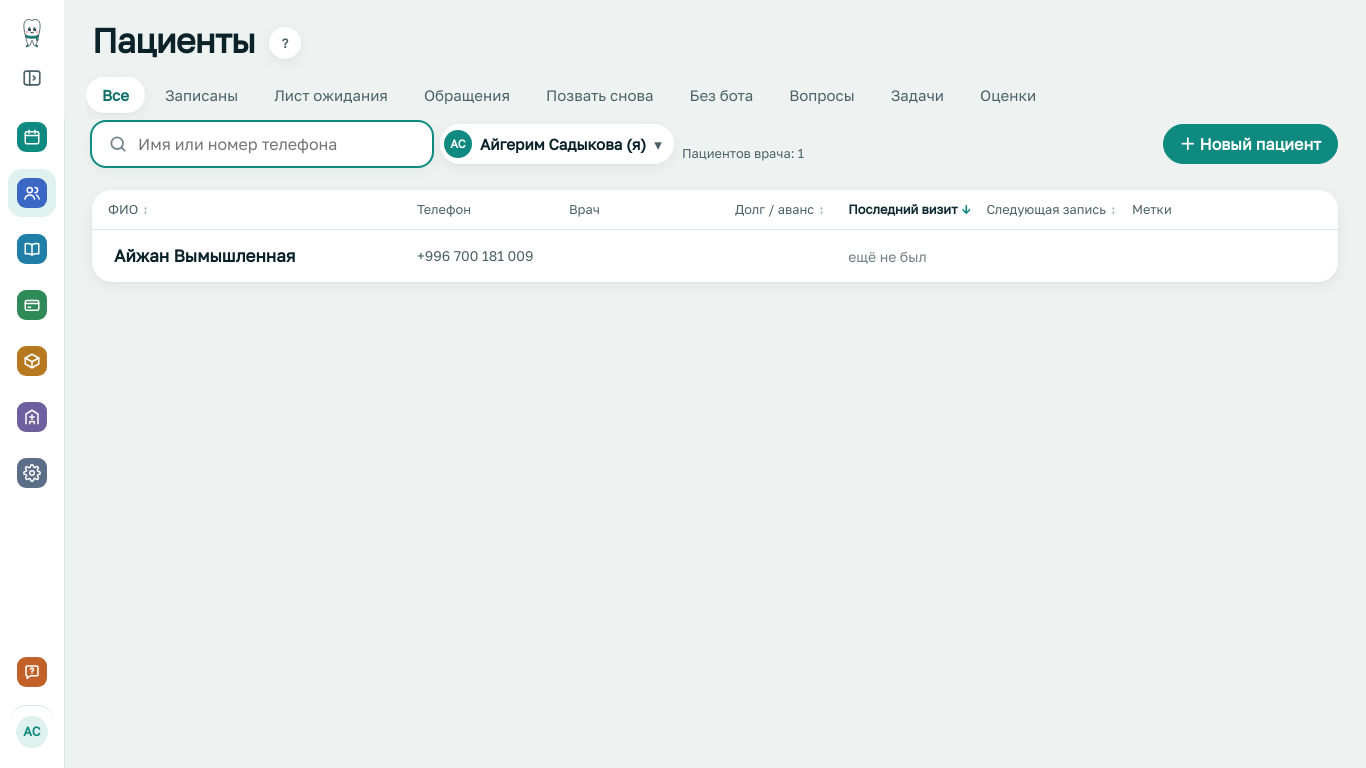
Test: свёрнут в одну строку: «📄 Договор: не подписан», нажали — кнопки, ещё раз — снова строка
Click the button "Айжан Вымышленная" at (205, 256), box [114, 243, 296, 269]
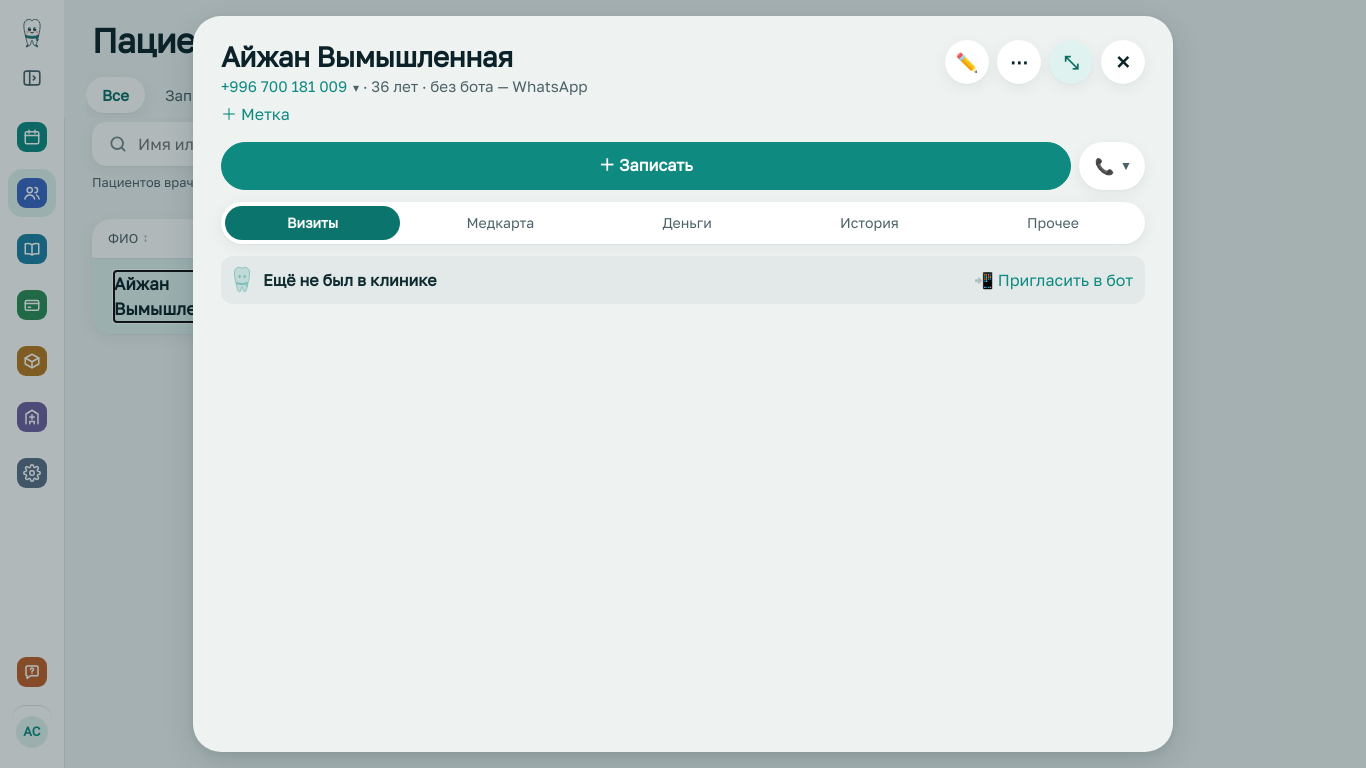
Click the tab "Прочее" at (1053, 223), box [965, 206, 1141, 240]
(page scrolled)
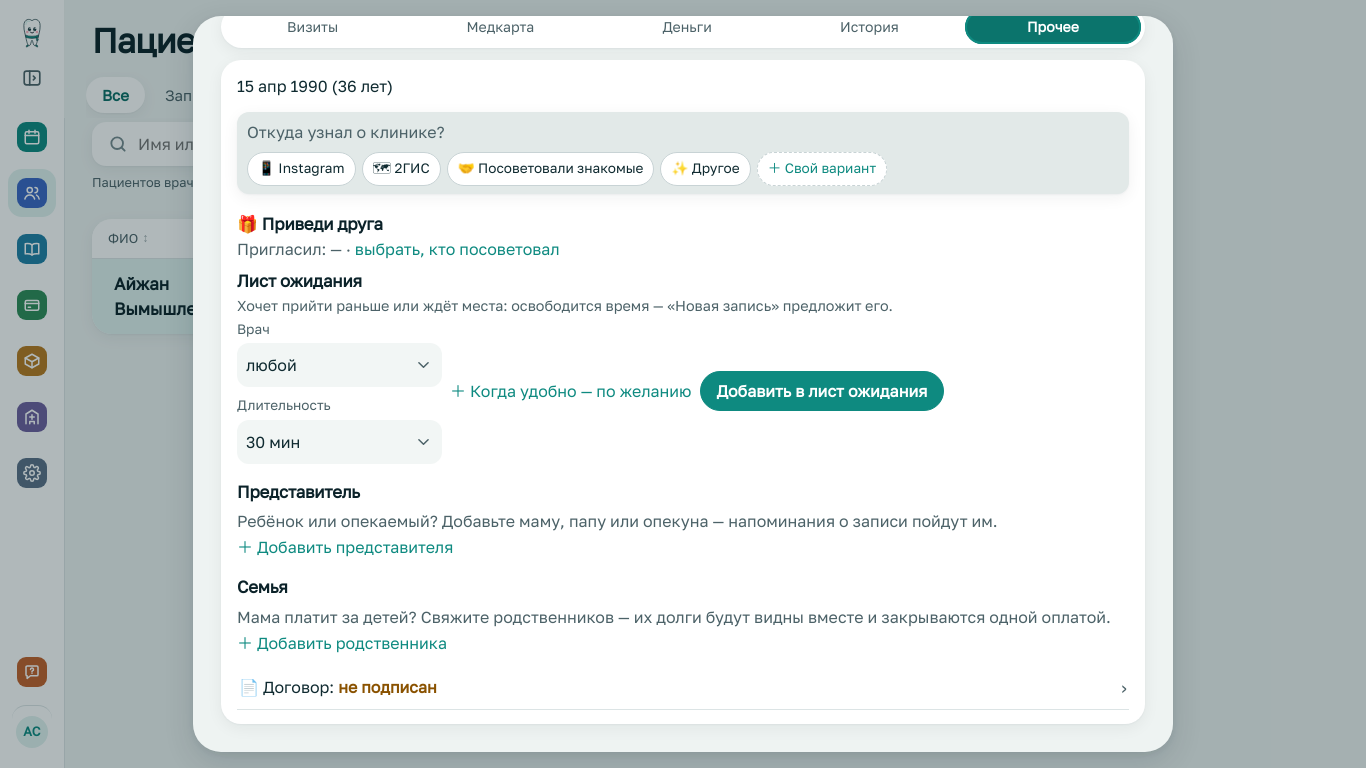
Expected: the button "Отметить подписанным" is not shown
Click the button "📄 Договор: не подписан ›" at (289, 687), box [237, 665, 1129, 709]
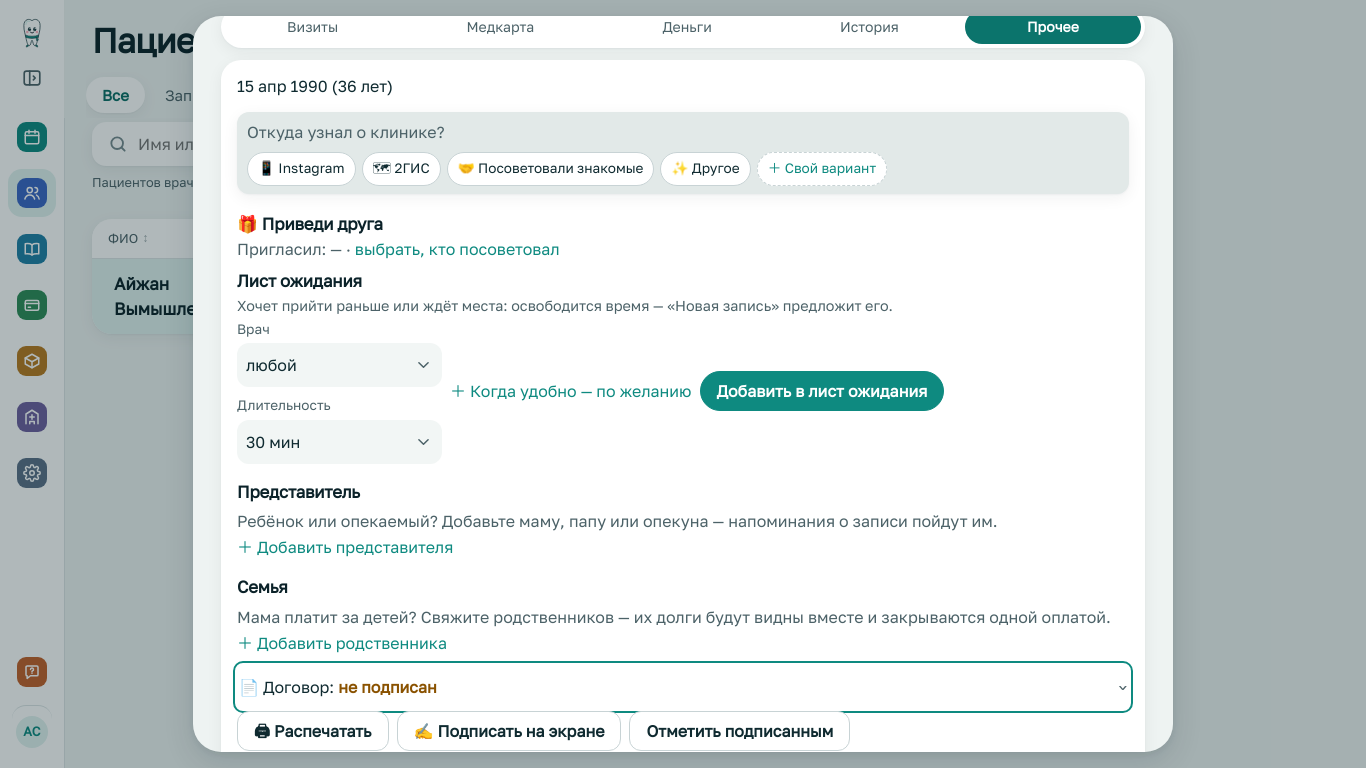
Result: the button "📄 Договор: не подписан ›" is expanded
Result: the button "✍️ Подписать на экране" is shown at [396, 711, 621, 751]
Click the button "📄 Договор: не подписан ›" at (289, 687), box [237, 665, 1129, 709]
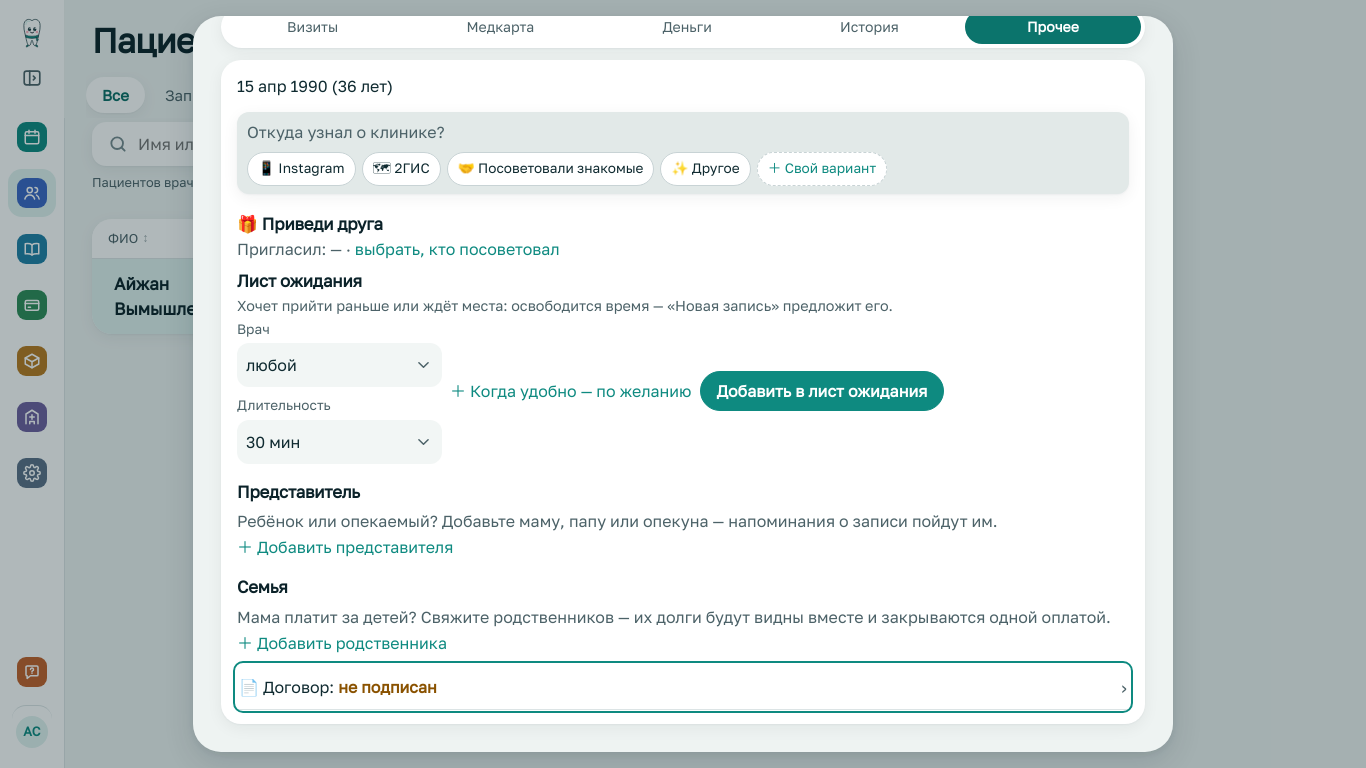
Result: the button "📄 Договор: не подписан ›" is collapsed at [237, 665, 1129, 709]
Result: the button "✍️ Подписать на экране" is gone
